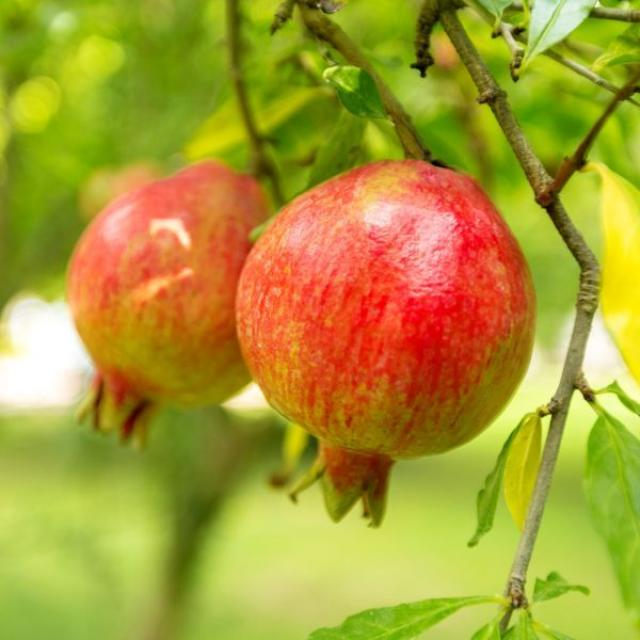apple: (232, 159, 541, 532), (59, 163, 284, 443)
